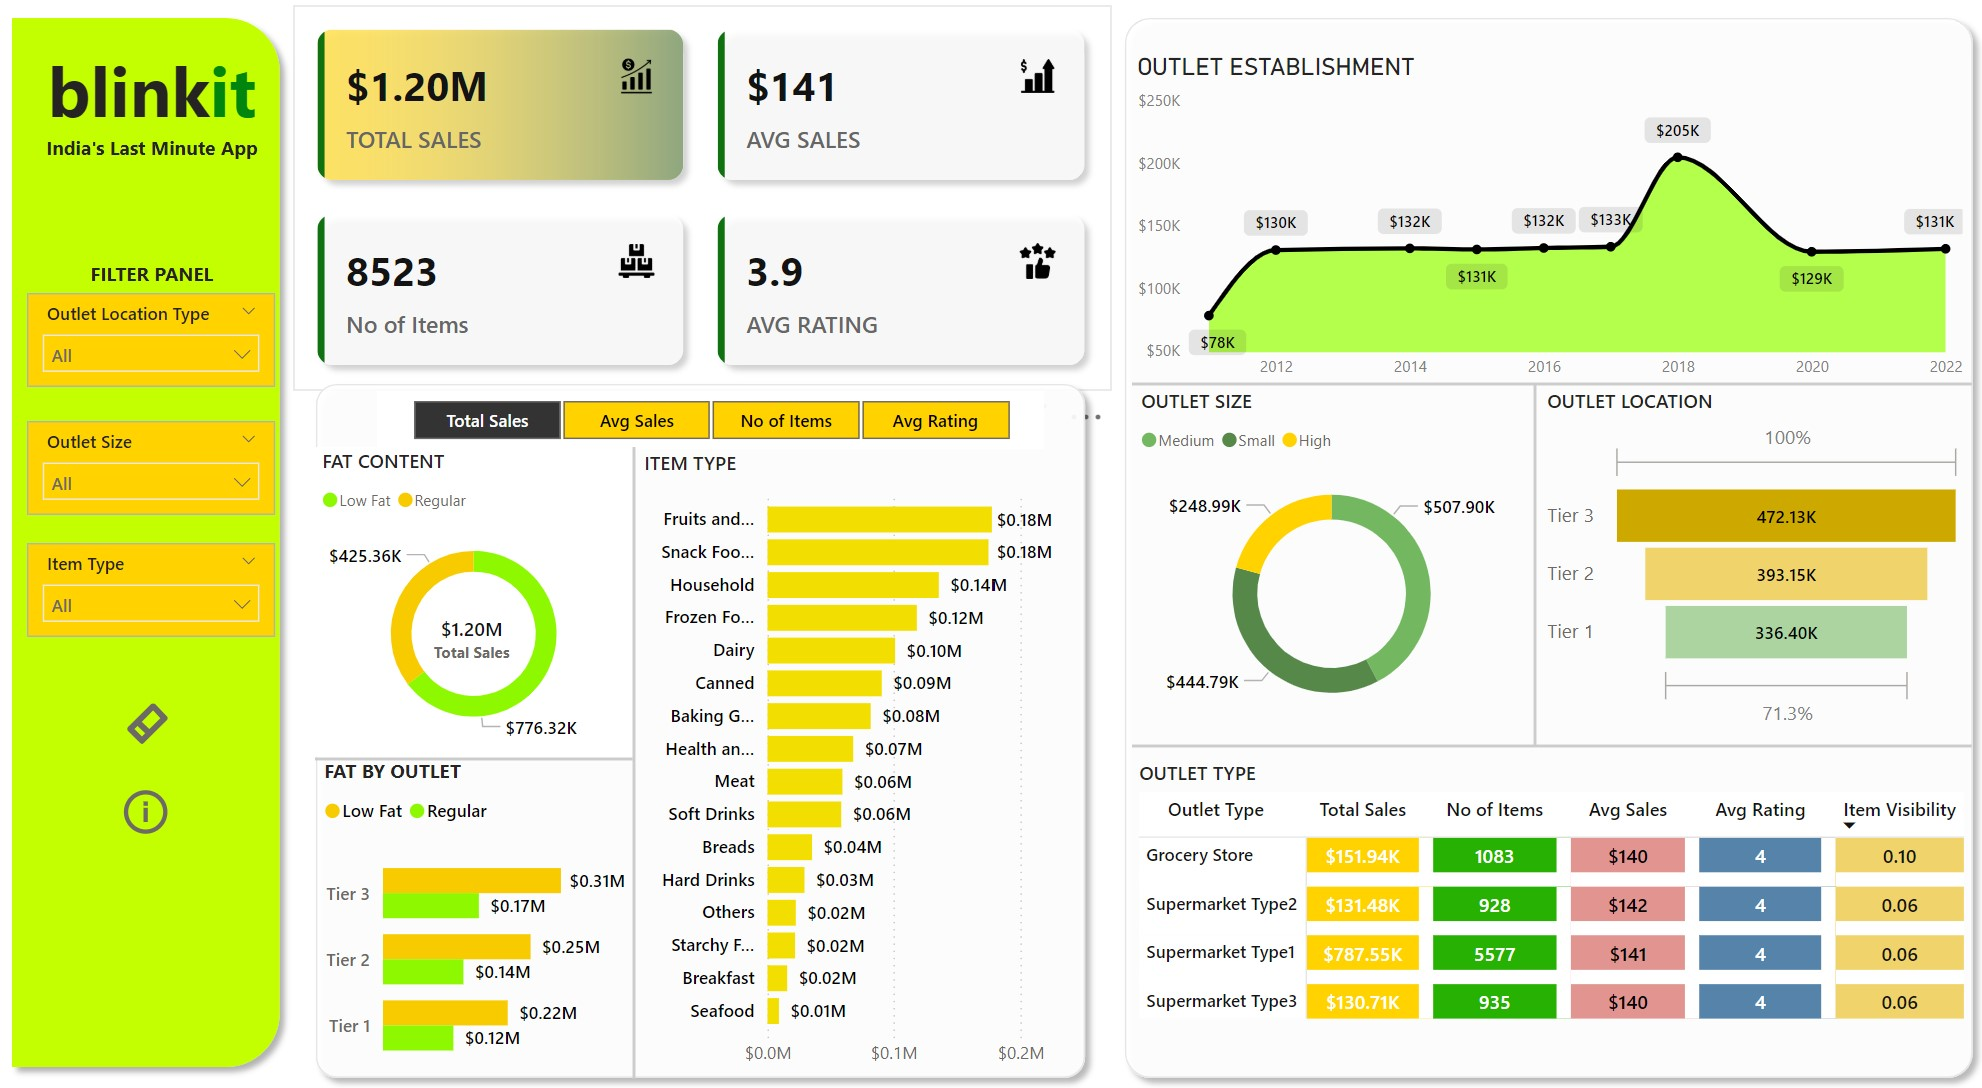

Layout of this report page (visuals, bound fields, positions):
{"tool":"powerbi","page":{"name":"Dashboard","canvas":[1400,800],"ordinal":0},"visuals":[{"type":"shape","box":[11.4,13.9,204.7,749.4],"z":0},{"type":"textbox","box":[32.1,34.9,171.5,73.9],"z":1000},{"type":"textbox","box":[32.1,99,171.5,37.6],"z":2000},{"type":"cardVisual","fields":{"Data":["BlinkIT Grocery Data.Total Sales","BlinkIT Grocery Data.Avg Sales","BlinkIT Grocery Data.No of Items","BlinkIT Grocery Data.Avg Rating"]},"box":[216.1,13.9,570,269.2],"z":3000},{"type":"shape","box":[223.7,269.2,553.6,501.7],"z":4000},{"type":"slicer","fields":{"Values":["Metrics.Metrics"]},"box":[274.7,283.1,464.3,40.4],"z":5000},{"type":"donutChart","title":"FAT CONTENT","fields":{"Y":["BlinkIT Grocery Data.Total Sales"],"Category":["BlinkIT Grocery Data.Item Fat Content"]},"box":[231.3,322.3,221.2,216.1],"z":6000},{"type":"cardVisual","fields":{"Data":["BlinkIT Grocery Data.Total Sales"]},"box":[294.5,420.9,93.5,69.5],"z":7000},{"type":"clusteredBarChart","title":"FAT BY OUTLET","fields":{"Y":["BlinkIT Grocery Data.Total Sales"],"Category":["BlinkIT Grocery Data.Outlet Location Type"],"Series":["BlinkIT Grocery Data.Item Fat Content"]},"box":[232.5,538.4,219.9,230],"z":8000},{"type":"shape","box":[231.5,522.9,221.7,33.5],"z":9000},{"type":"shape","box":[451.8,322.1,4.2,440.6],"z":10000},{"type":"barChart","title":"ITEM TYPE","fields":{"Y":["BlinkIT Grocery Data.Total Sales"],"Category":["BlinkIT Grocery Data.Item Type"]},"box":[456,323.5,311,439.2],"z":11000},{"type":"shape","box":[786.1,13.9,609.2,757],"z":12000},{"type":"lineChart","title":"OUTLET ESTABLISHMENT","fields":{"Category":["BlinkIT Grocery Data.Outlet Establishment Year"],"Y":["BlinkIT Grocery Data.Total Sales"]},"box":[799,47.4,585.7,235.7],"z":13000},{"type":"shape","box":[800.4,266.3,585.7,23.7],"z":14000},{"type":"donutChart","title":"OUTLET SIZE","fields":{"Y":["BlinkIT Grocery Data.Total Sales"],"Category":["BlinkIT Grocery Data.Outlet Size"]},"box":[801.3,280.6,275.5,243.9],"z":15000},{"type":"shape","box":[1075.1,278.9,12.5,252.4],"z":16000},{"type":"funnel","title":"OUTLET LOCATION","fields":{"Y":["Sum(BlinkIT Grocery Data.Sales)"],"Category":["BlinkIT Grocery Data.Outlet Location Type"]},"box":[1084.9,280.3,299.8,242.6],"z":17000},{"type":"shape","box":[800.4,518.7,585.7,23.7],"z":18000},{"type":"pivotTable","title":"OUTLET TYPE","fields":{"Rows":["BlinkIT Grocery Data.Outlet Type"],"Values":["BlinkIT Grocery Data.Total Sales","BlinkIT Grocery Data.No of Items","BlinkIT Grocery Data.Avg Sales","BlinkIT Grocery Data.Avg Rating","Avg(BlinkIT Grocery Data.Item Visibility)"]},"box":[800.4,539.6,587.1,203.6],"z":19000},{"type":"slicer","fields":{"Values":["BlinkIT Grocery Data.Outlet Location Type"]},"box":[30.7,214.7,172.9,65.5],"z":20000},{"type":"slicer","fields":{"Values":["BlinkIT Grocery Data.Outlet Size"]},"box":[30.7,304,172.9,65.5],"z":21000},{"type":"slicer","fields":{"Values":["BlinkIT Grocery Data.Item Type"]},"box":[30.7,389,172.9,65.5],"z":22000},{"type":"textbox","box":[60,186.9,115.7,27.9],"z":23000},{"type":"actionButton","box":[76.7,488,76,54],"z":24000},{"type":"actionButton","box":[76.7,556.4,73.9,40.4],"z":25000}]}

Visuals, with their boxes on the page's 1400x800 design canvas (x1, y1, x2, y2). These are canvas units, not pixel positions in the 1982x1088 screenshot, which may show the page scaled, cropped or inside an application window:
shape: x1=11, y1=14, x2=216, y2=763
textbox: x1=32, y1=35, x2=204, y2=109
textbox: x1=32, y1=99, x2=204, y2=137
cardVisual - BlinkIT Grocery Data.Total Sales x BlinkIT Grocery Data.Avg Sales: x1=216, y1=14, x2=786, y2=283
shape: x1=224, y1=269, x2=777, y2=771
slicer - Metrics.Metrics: x1=275, y1=283, x2=739, y2=324
"FAT CONTENT" donutChart: x1=231, y1=322, x2=452, y2=538
cardVisual - BlinkIT Grocery Data.Total Sales: x1=294, y1=421, x2=388, y2=490
"FAT BY OUTLET" clusteredBarChart: x1=232, y1=538, x2=452, y2=768
shape: x1=232, y1=523, x2=453, y2=556
shape: x1=452, y1=322, x2=456, y2=763
"ITEM TYPE" barChart: x1=456, y1=324, x2=767, y2=763
shape: x1=786, y1=14, x2=1395, y2=771
"OUTLET ESTABLISHMENT" lineChart: x1=799, y1=47, x2=1385, y2=283
shape: x1=800, y1=266, x2=1386, y2=290
"OUTLET SIZE" donutChart: x1=801, y1=281, x2=1077, y2=524
shape: x1=1075, y1=279, x2=1088, y2=531
"OUTLET LOCATION" funnel: x1=1085, y1=280, x2=1385, y2=523
shape: x1=800, y1=519, x2=1386, y2=542
"OUTLET TYPE" pivotTable: x1=800, y1=540, x2=1388, y2=743
slicer - BlinkIT Grocery Data.Outlet Location Type: x1=31, y1=215, x2=204, y2=280
slicer - BlinkIT Grocery Data.Outlet Size: x1=31, y1=304, x2=204, y2=370
slicer - BlinkIT Grocery Data.Item Type: x1=31, y1=389, x2=204, y2=454
textbox: x1=60, y1=187, x2=176, y2=215
actionButton: x1=77, y1=488, x2=153, y2=542
actionButton: x1=77, y1=556, x2=151, y2=597
